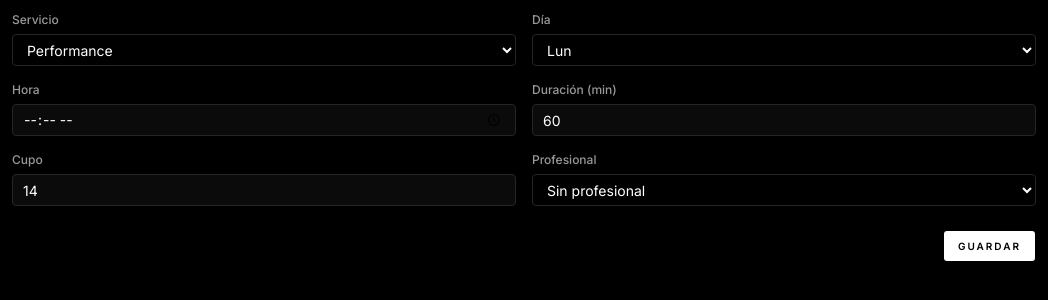
Test: TemplateForm › rejects 1e2 as a duration
Type "19:00" into the time field labelled "Hora" at [264, 120], box left=12, top=104, right=516, bottom=136
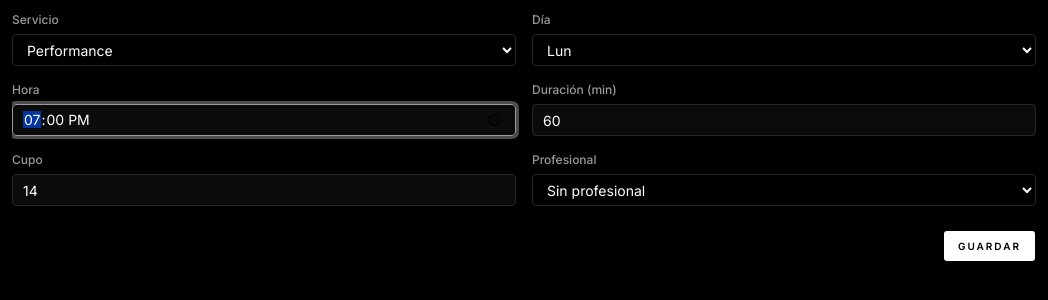
Replace the text in the number field labelled "Duración (min)" with "1e2" at [784, 120], box left=532, top=104, right=1036, bottom=136
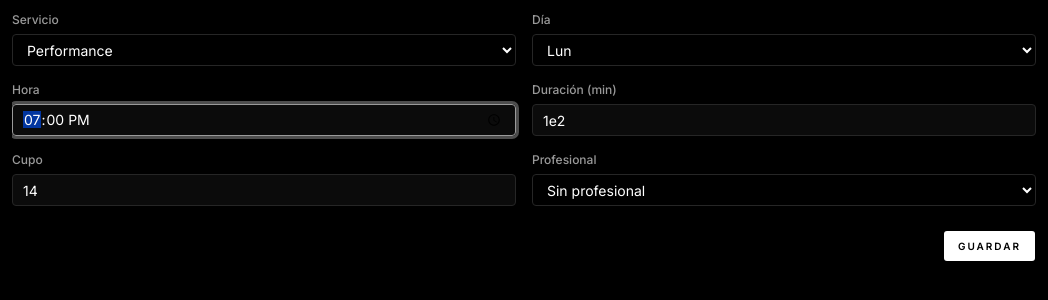
Click the button "Guardar" at [989, 246], box left=943, top=230, right=1036, bottom=262
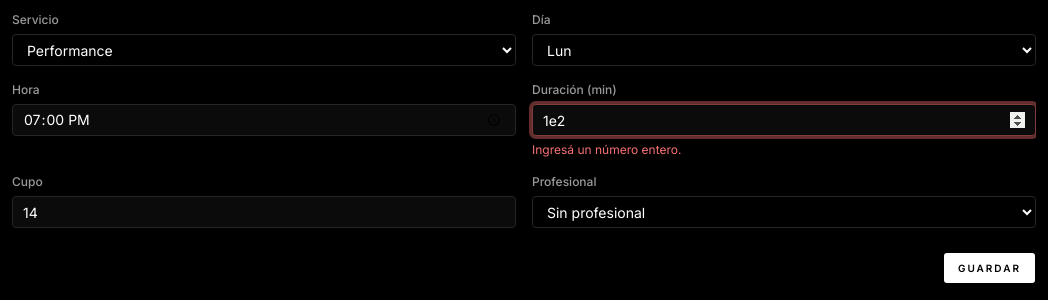
Check: the text "Ingresá un número entero." is shown, box left=532, top=142, right=681, bottom=157
